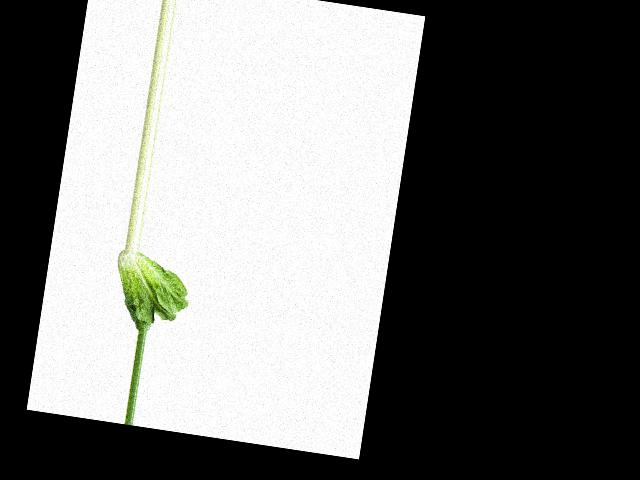lettuce: (107, 249, 195, 335)
